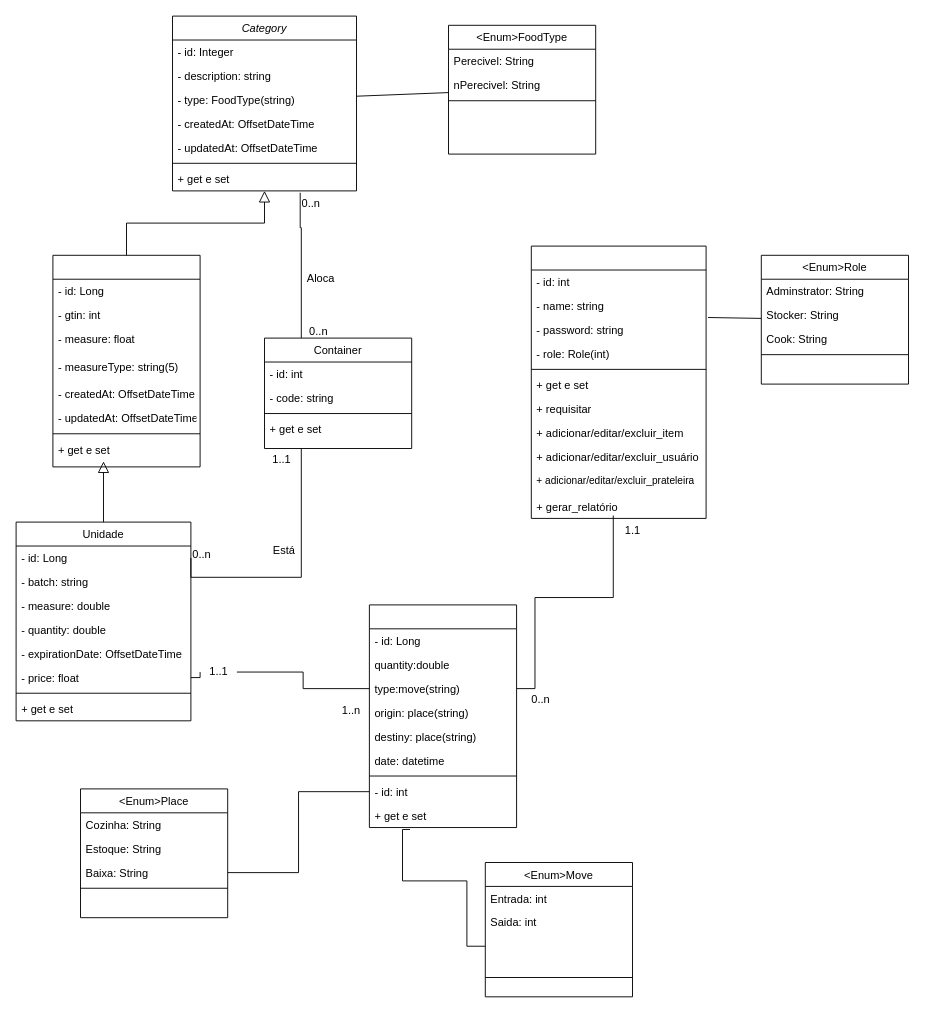
The diagram is 925 pixels wide and 1013 high, and some of its shapes have lost their labels. The shapes that lost their labels are listed below. From the top down, each one's box as (x1, y1, x2, y2) in pixels, then its label:
(52, 254, 200, 467): Product
(530, 245, 706, 518): User
(368, 604, 517, 828): Moviment
